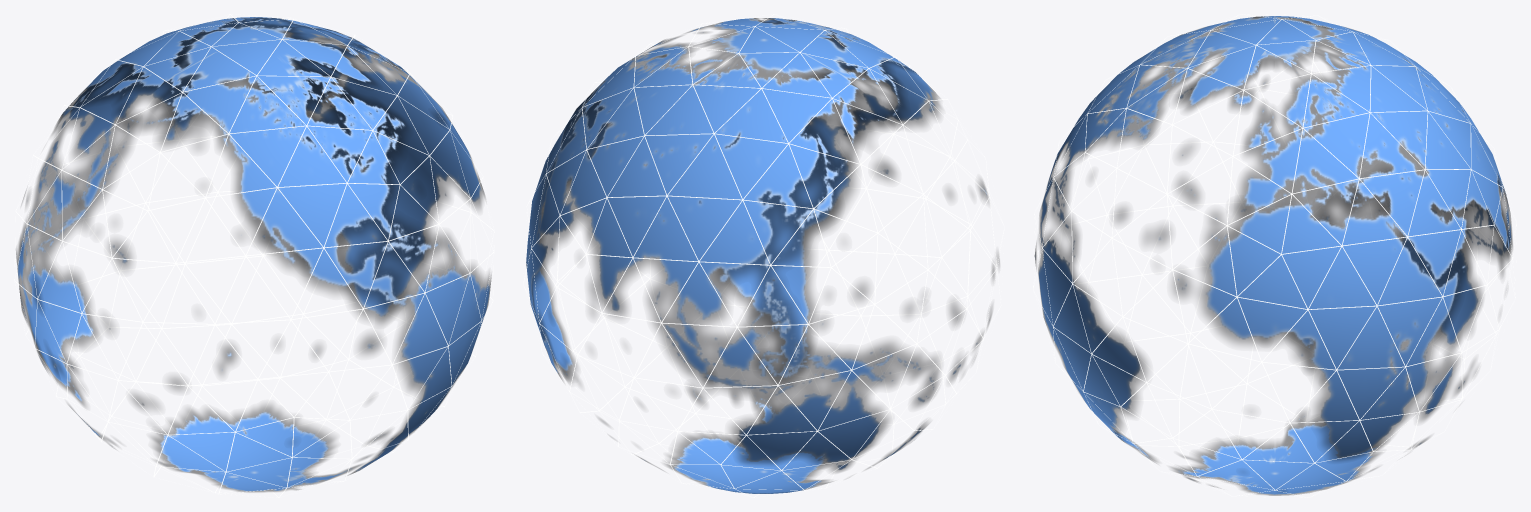
Rendered from theworld.glb.
3 renders of one model, left to right at view 1: azimuth 30°, elevation 25°; view 2: azimuth 150°, elevation 25°; view 3: azimuth 270°, elevation 25°, orthographic.
Visible parts, largest first — view 1: earth_Holo_1, grid_0; view 2: earth_Holo_1, grid_0; view 3: earth_Holo_1, grid_0.
Part boxes in pixels (left/top/right/bottom): earth_Holo_1: left=16, top=17, right=491, bottom=492; grid_0: left=14, top=14, right=494, bottom=497; earth_Holo_1: left=526, top=18, right=999, bottom=493; grid_0: left=523, top=14, right=1004, bottom=497; earth_Holo_1: left=1034, top=16, right=1512, bottom=495; grid_0: left=1033, top=14, right=1516, bottom=497.
Bounding box in the file's own units: 2.03 × 2.02 × 2.01.
2 materials, 1 textured.
